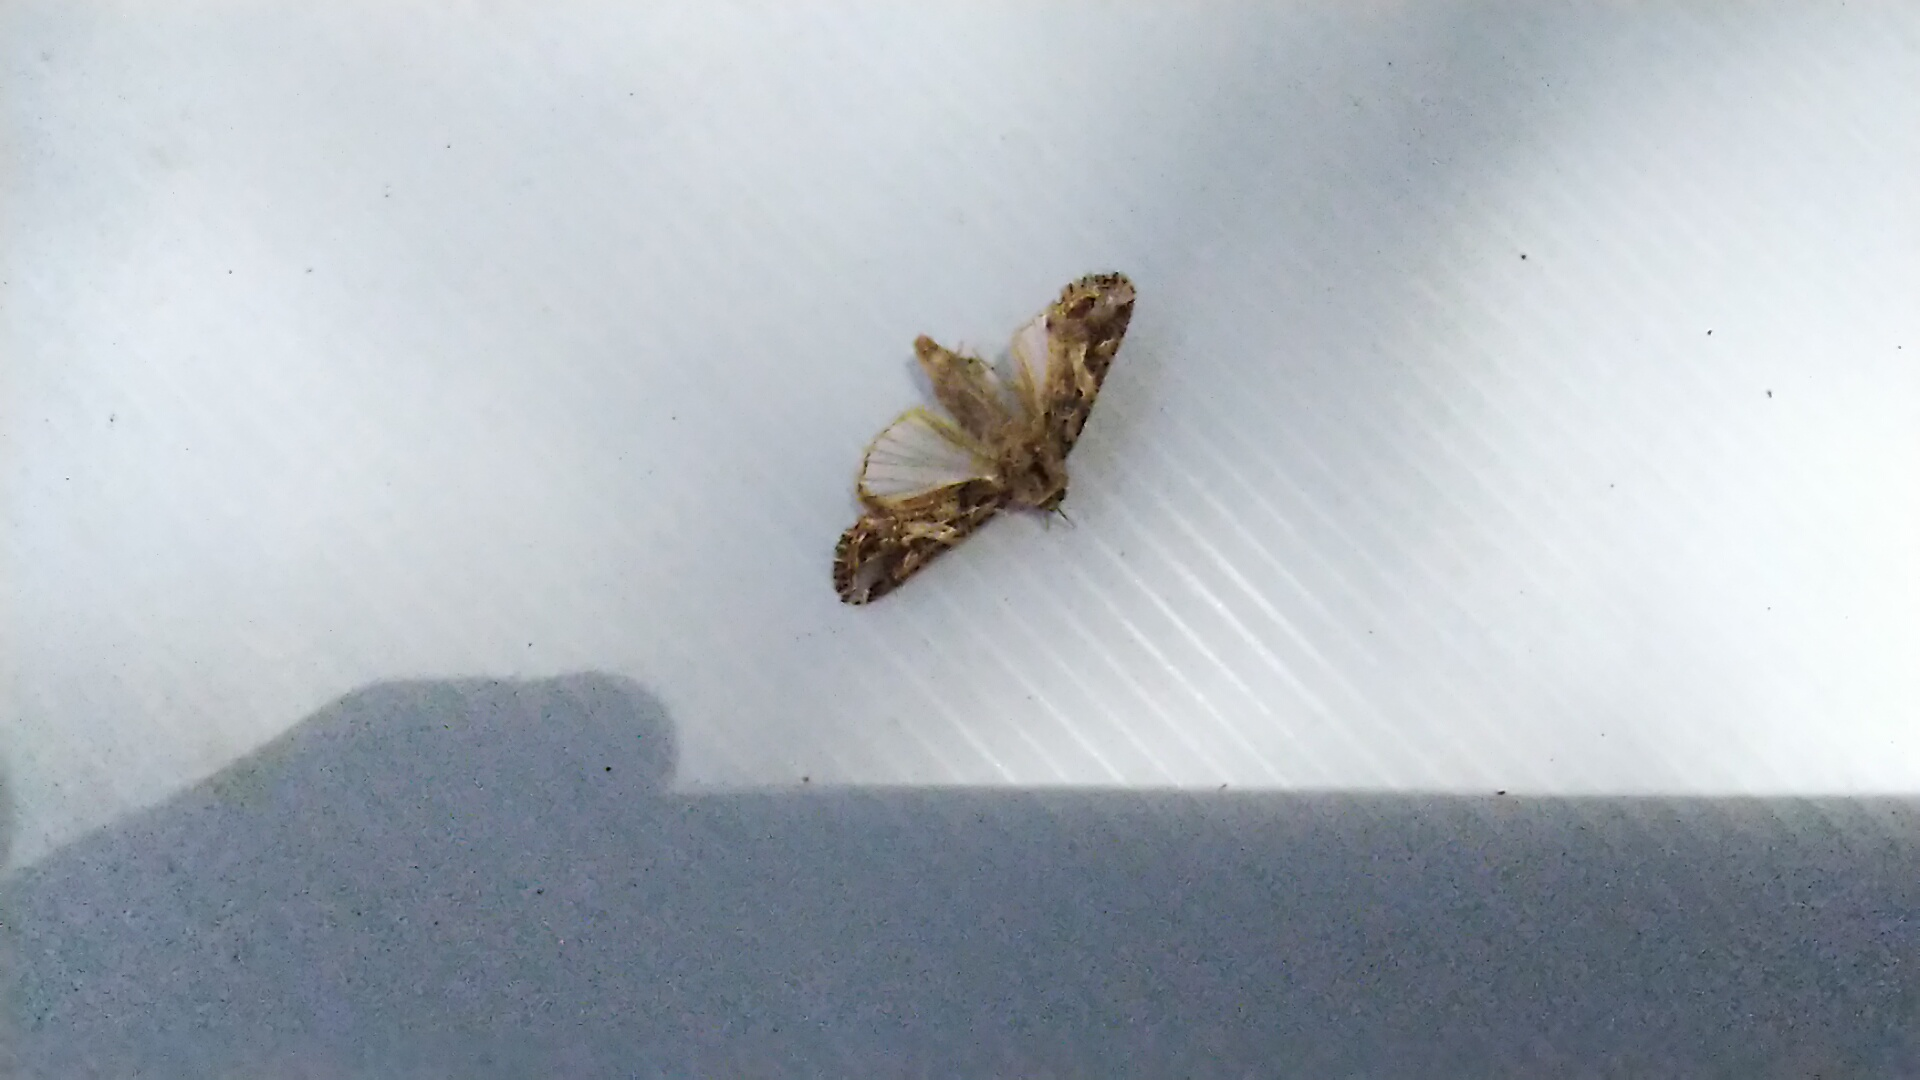INS-B: (814, 265, 1153, 615)
